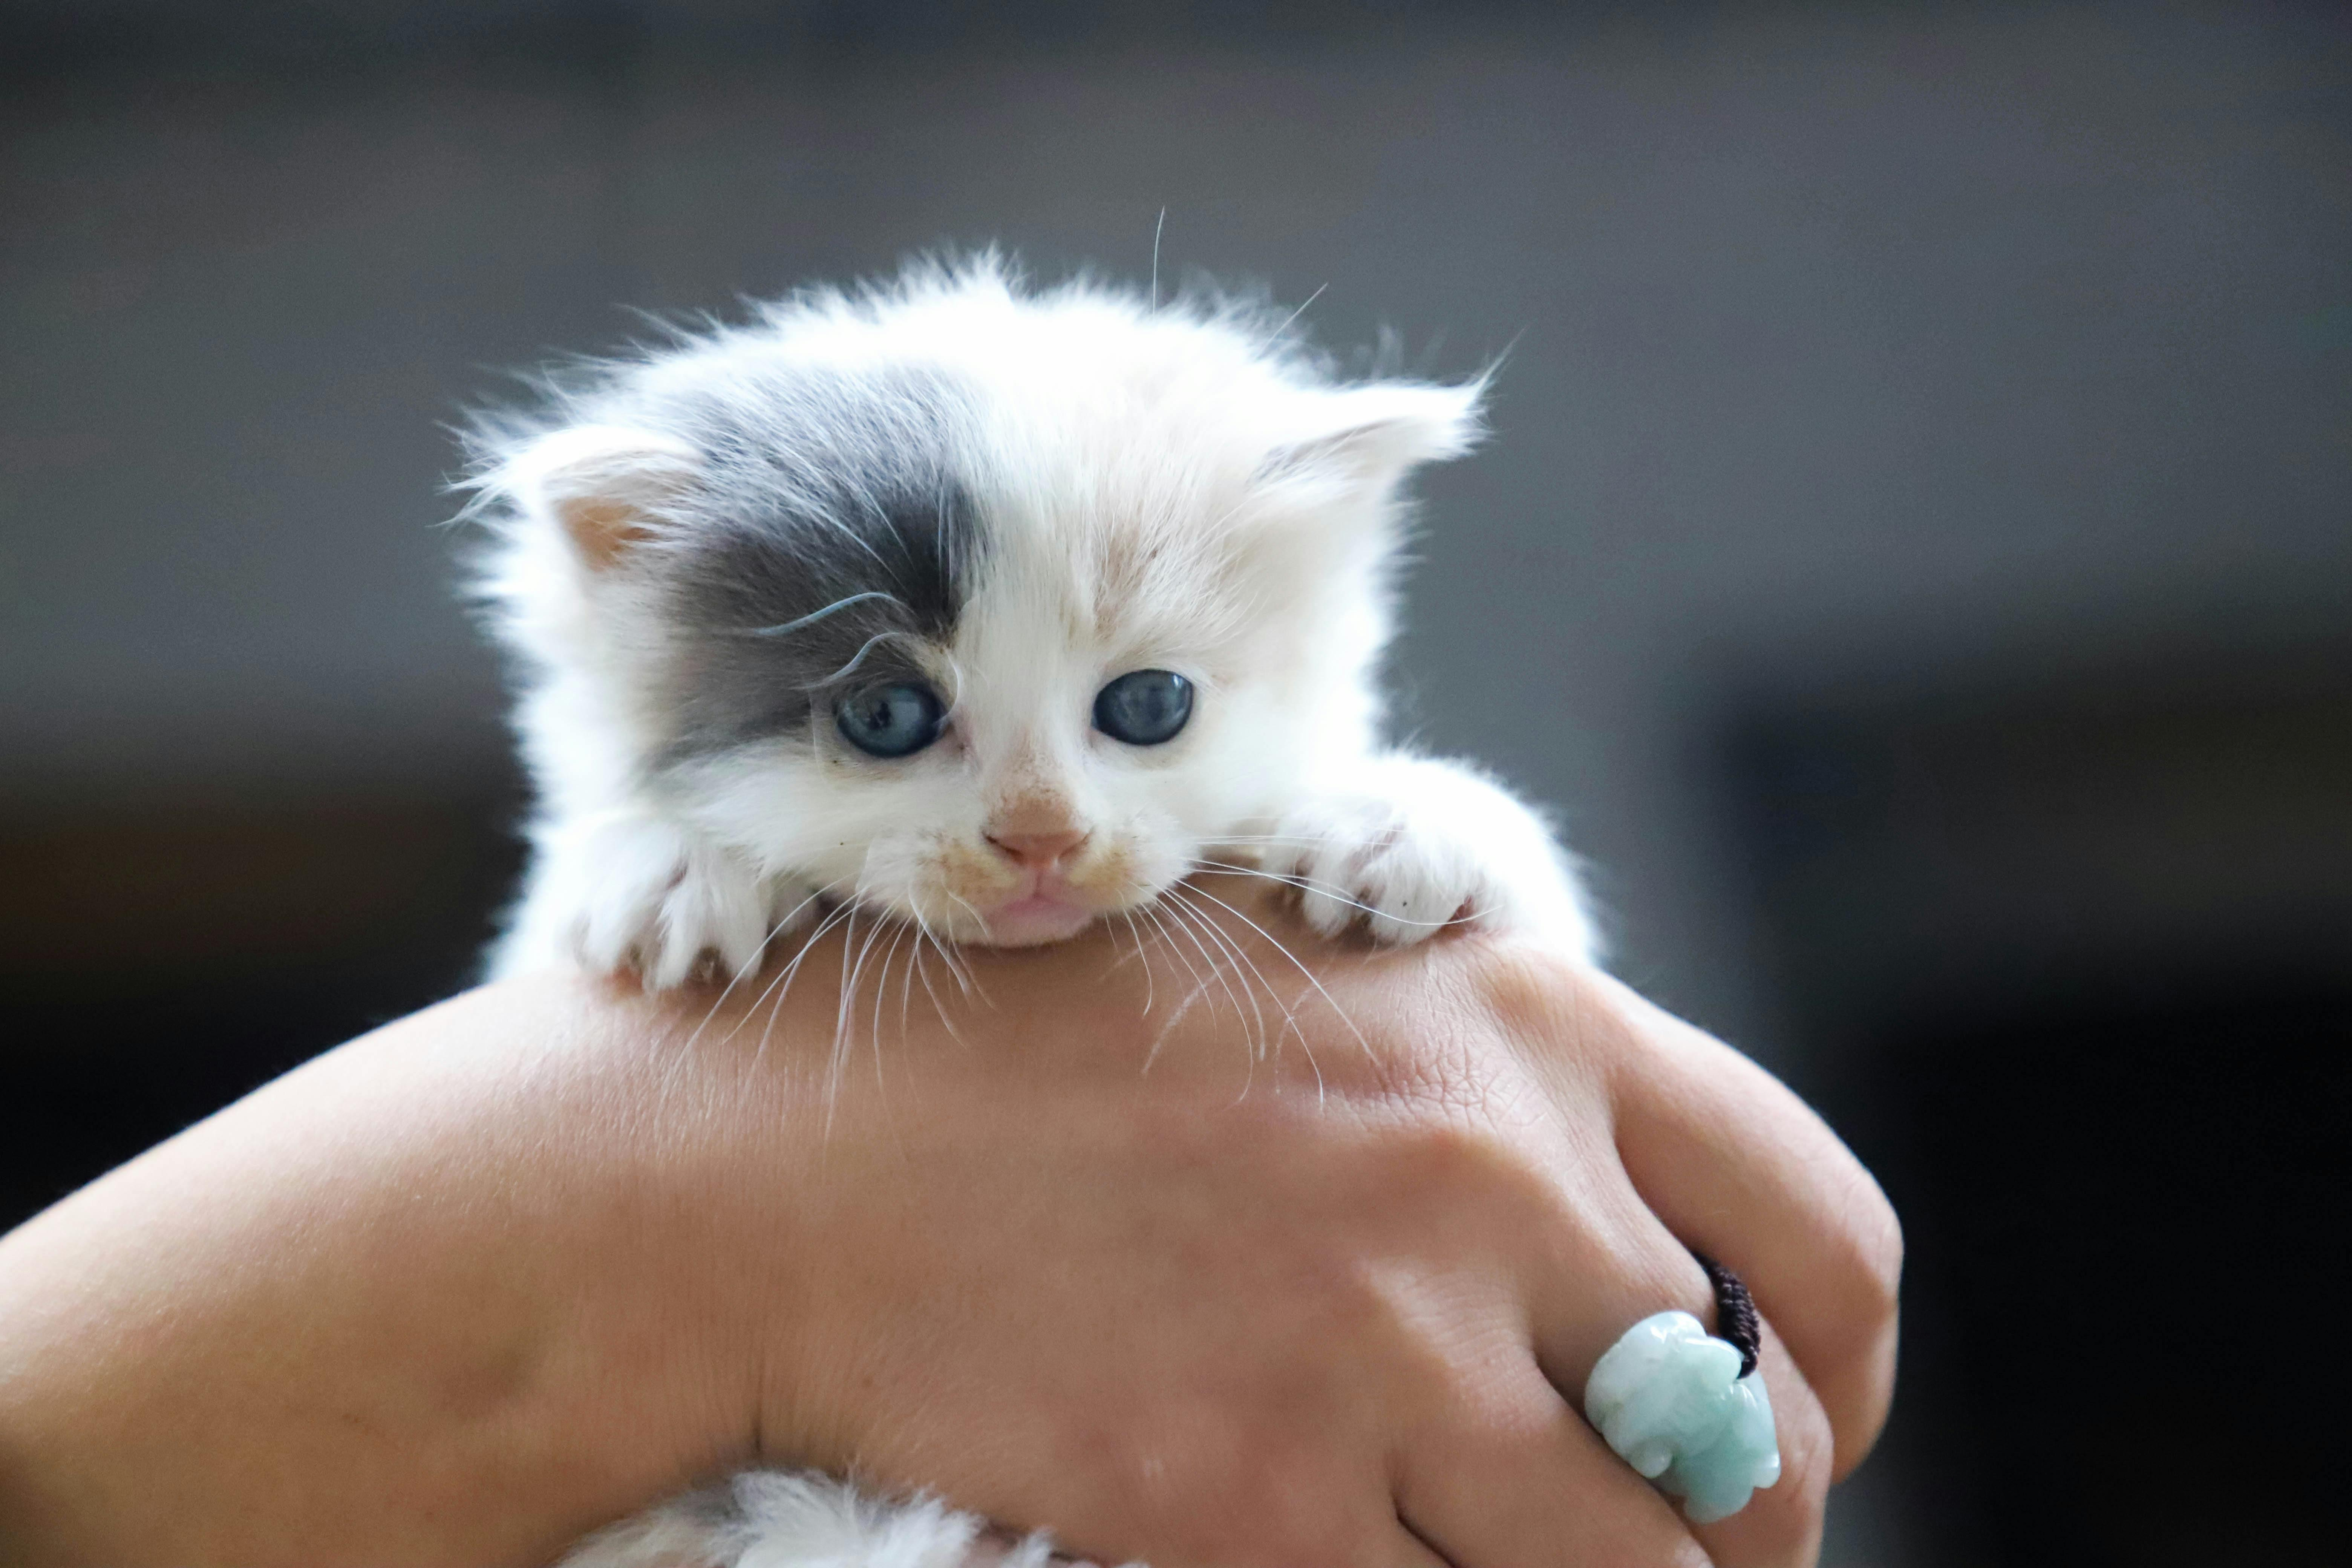kedo: (500, 299, 1484, 992)
